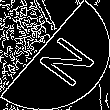N_NW: (20, 24, 90, 86)
